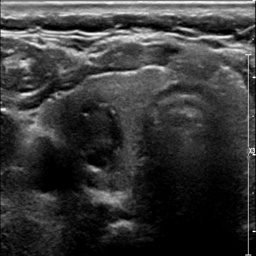mass: (58, 97, 123, 170)
